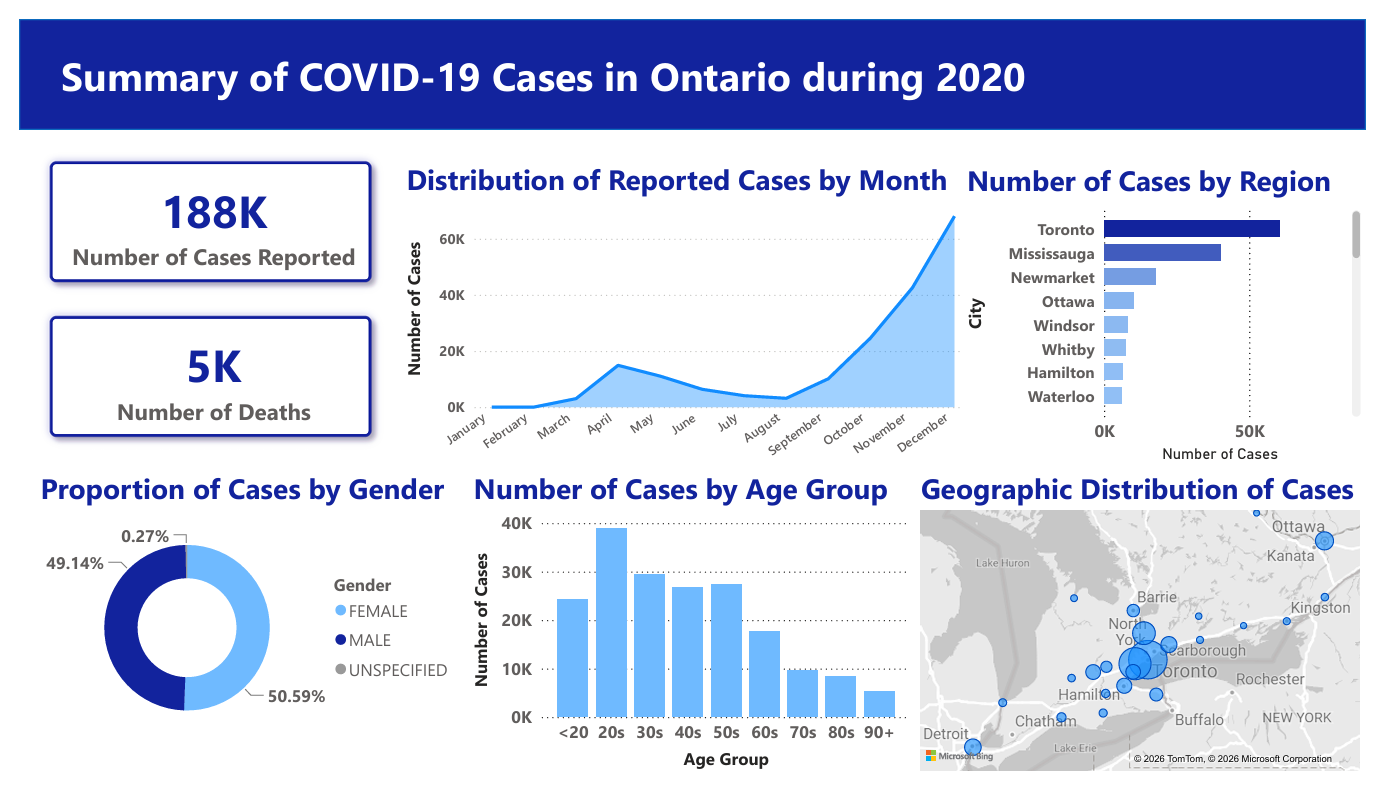

The dashboard page shown, as its layout file describes it:
{"tool":"powerbi","page":{"name":"Page 1","canvas":[1280,720],"ordinal":0},"visuals":[{"type":"cardVisual","fields":{"Data":["public covid_cases.Number of Cases Reported","public covid_cases.Number of Deaths"]},"box":[0,106,364,320],"z":0},{"type":"donutChart","title":"Proportion of Cases by Gender","fields":{"Category":["public covid_cases.client_gender"],"Y":["CountNonNull(public covid_cases.row_id)"]},"box":[15,426.7,406.7,268.3],"z":1000},{"type":"columnChart","title":"Fatality Rate by Age Group","fields":{"Category":["public covid_cases.age_group"],"Y":["Avg(public covid_cases.outcome)"]},"box":[426.7,426.7,425,291.7],"z":2000},{"type":"shape","box":[0,0,1280,105],"z":3000},{"type":"areaChart","title":"Distribution of Reported Cases by Month","fields":{"Y":["CountNonNull(public covid_cases.row_id)"],"Category":["public covid_cases.Cases Reported Date.Variation.Date Hierarchy.Month"]},"box":[363.4,133.3,546.6,302.8],"z":4000},{"type":"barChart","title":"Number of Cases by Region","fields":{"Y":["CountNonNull(public covid_cases.row_id)"],"Category":["public reporting_phu.reporting_phu_city"]},"box":[896,134,384,292],"z":5000},{"type":"map","title":"Geographic Distribution of Cases","fields":{"Category":["public reporting_phu.reporting_phu_city"],"Size":["CountNonNull(public covid_cases.row_id)"]},"box":[851.7,426.7,428.3,293.3],"z":6000}]}

Visuals, with their boxes in screenshot pixels (x1, y1, x2, y2), scaled from the page's 1280x720 canvas onto the 1381x792 screenshot:
cardVisual - public covid_cases.Number of Cases Reported x public covid_cases.Number of Deaths: <box>0,117,393,469</box>
"Proportion of Cases by Gender" donutChart: <box>16,469,455,765</box>
"Fatality Rate by Age Group" columnChart: <box>460,469,919,790</box>
shape: <box>0,0,1380,116</box>
"Distribution of Reported Cases by Month" areaChart: <box>392,147,982,480</box>
"Number of Cases by Region" barChart: <box>967,147,1380,469</box>
"Geographic Distribution of Cases" map: <box>919,469,1380,791</box>
